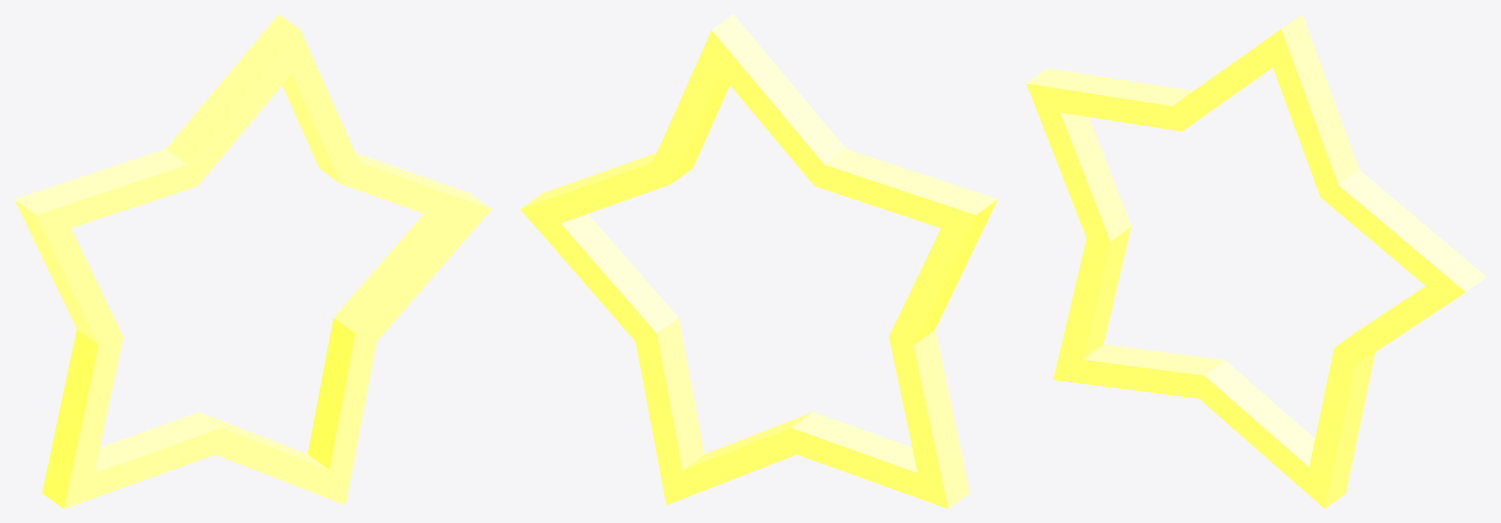
Rendered from start.fbx.
3 renders of one model, left to right at view 1: azimuth 30°, elevation 25°; view 2: azimuth 150°, elevation 25°; view 3: azimuth 330°, elevation 25°, orthographic. The views are drawn at different scales.
Parts seen in each view (by area): view 1: star!; view 2: star!; view 3: star!.
Part boxes in pixels (<box>): star!: <box>14,14,491,508</box>; star!: <box>520,14,997,508</box>; star!: <box>1026,14,1486,508</box>.
Bounding box in the file's own units: 286 × 292 × 23.75.
